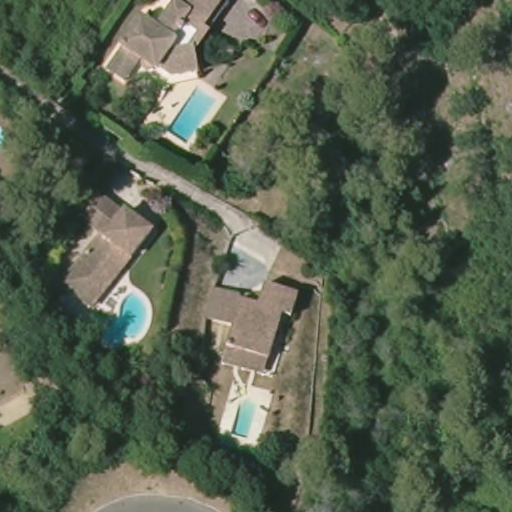pool: (158, 82, 227, 148), (95, 284, 155, 353), (225, 385, 259, 446)
